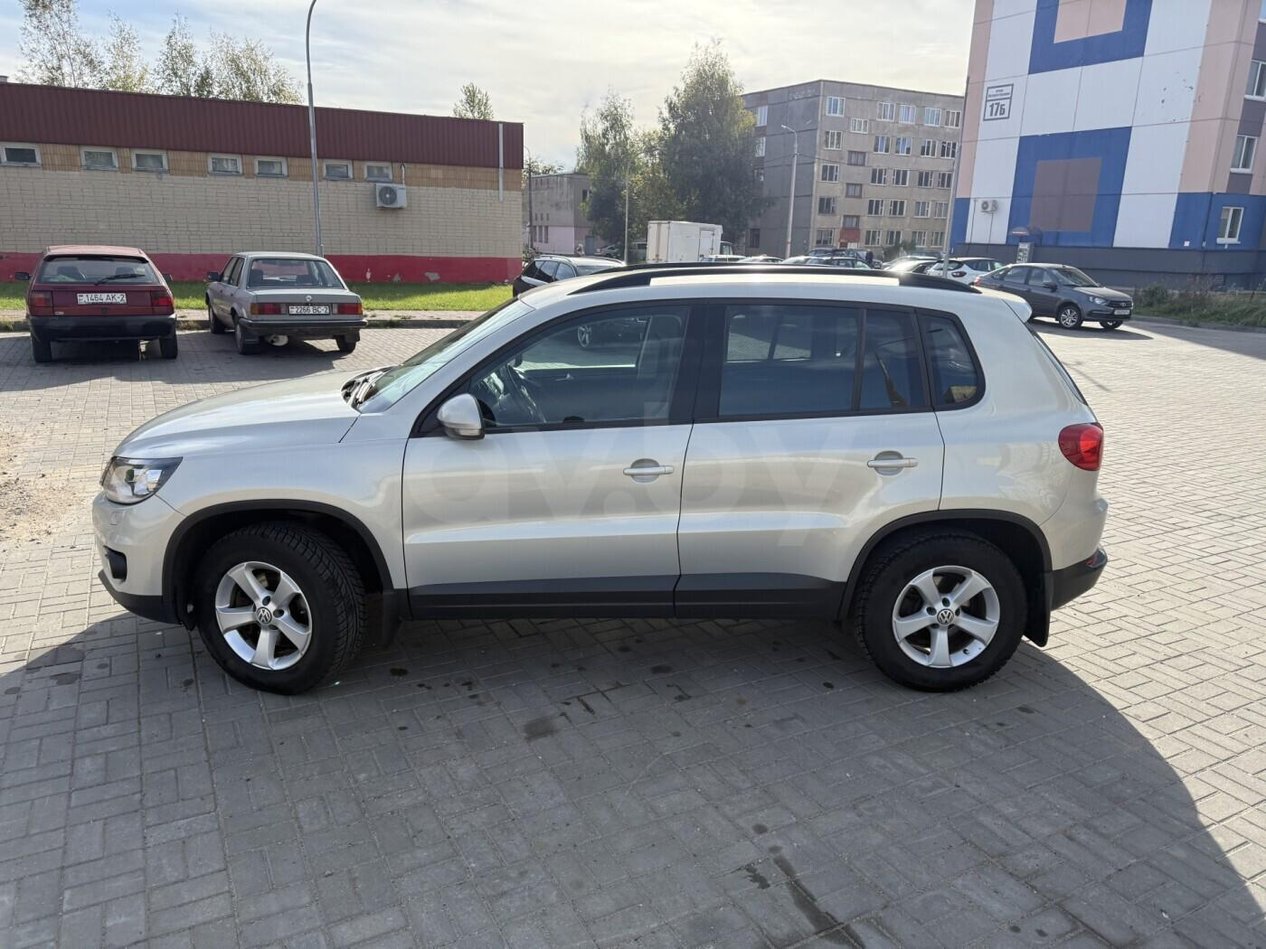Tiguan_2011-2018: (96, 261, 1115, 696)
